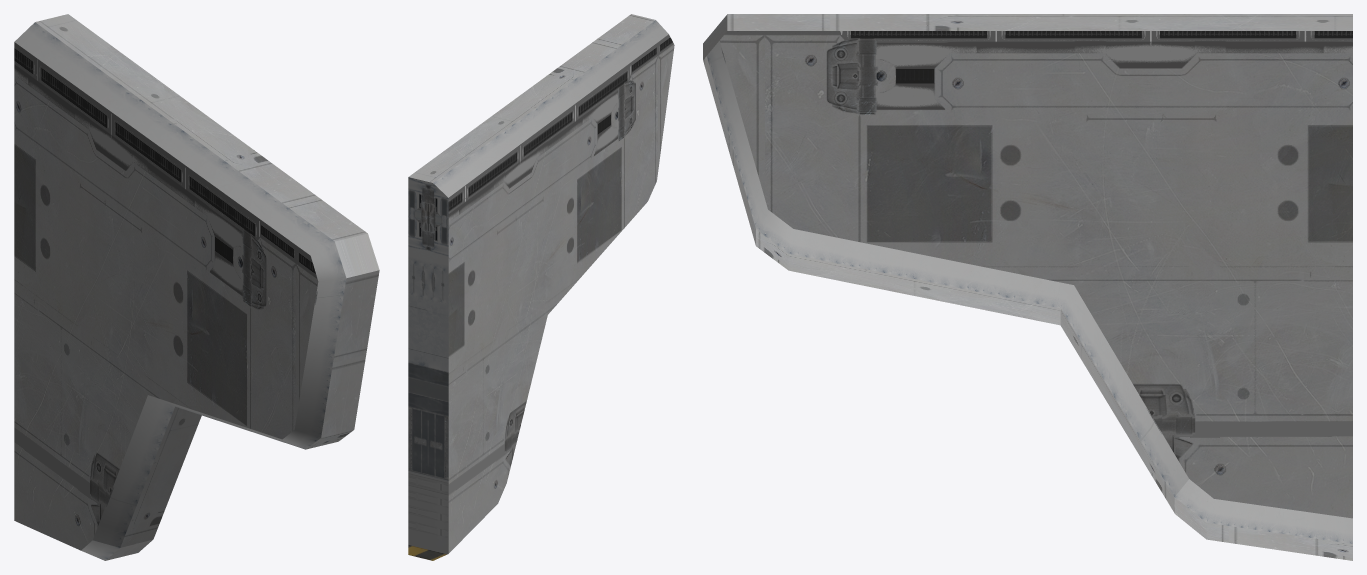
The model's file is SM_Wall_Small5.fbx.
3 renders of one model, left to right at view 1: azimuth 30°, elevation 25°; view 2: azimuth 150°, elevation 25°; view 3: azimuth 270°, elevation 25°, orthographic. The views are drawn at different scales.
Parts seen in each view (by area): view 1: SM_Wall_Small5_LOD0; view 2: SM_Wall_Small5_LOD0; view 3: SM_Wall_Small5_LOD0.
Part boxes in pixels (left/top/right/bottom): SM_Wall_Small5_LOD0: left=14, top=14, right=379, bottom=560; SM_Wall_Small5_LOD0: left=408, top=14, right=674, bottom=560; SM_Wall_Small5_LOD0: left=703, top=14, right=1352, bottom=560.
Size of the model in its own units: 20 by 200 by 180.
Materials: 2 (2 with a texture image).
